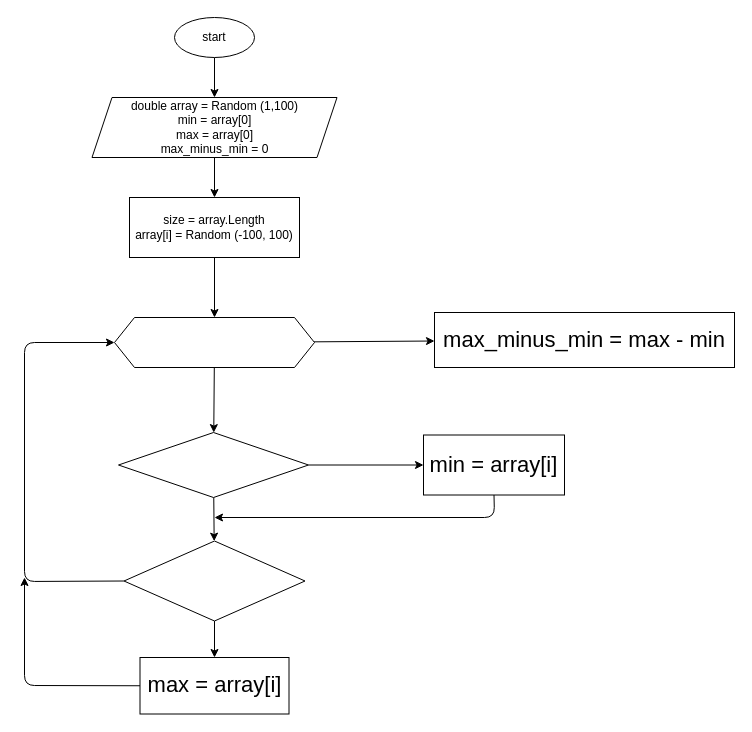
This 752x732 diagram has some shape labels left out. The shapes that lost their labels are listed below. From the top down, each one's centre as x and y in pixels, then its label:
At pixel 214 342: "i = 0; i<size; i++".
At pixel 213 465: "array [i] < min".
At pixel 214 580: "array[i] > max".
